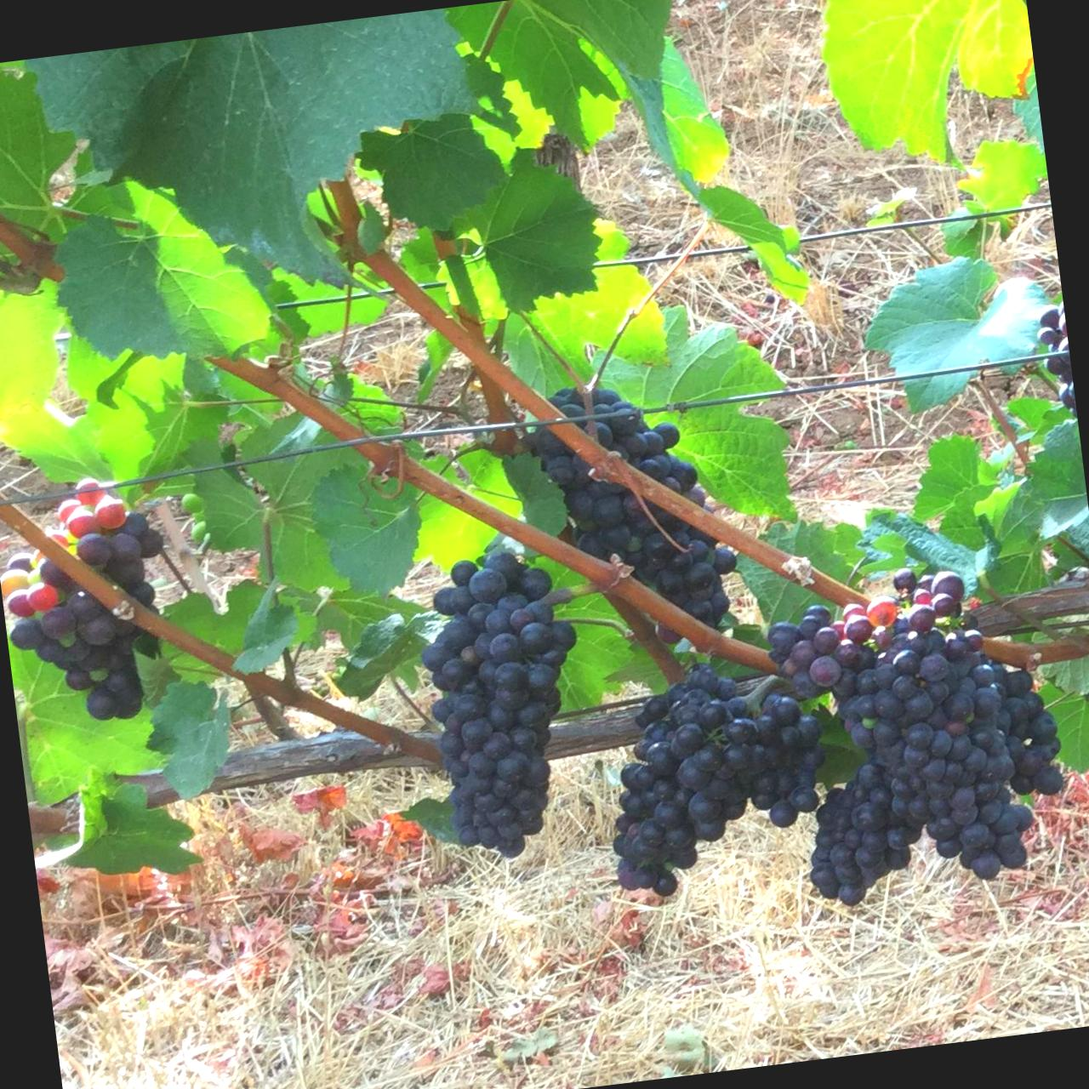Grape Ripe: (697, 547, 1089, 915), (387, 526, 605, 869), (549, 664, 844, 904), (525, 367, 759, 646), (0, 466, 202, 743)
